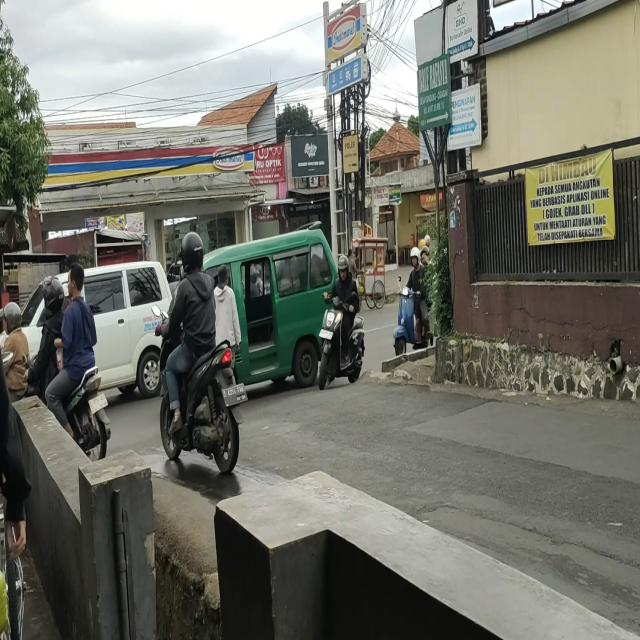helmet: (179, 233, 206, 275), (37, 275, 64, 315), (2, 297, 23, 335), (336, 254, 354, 284), (410, 248, 420, 271)
no-helmet: (66, 266, 89, 302)
